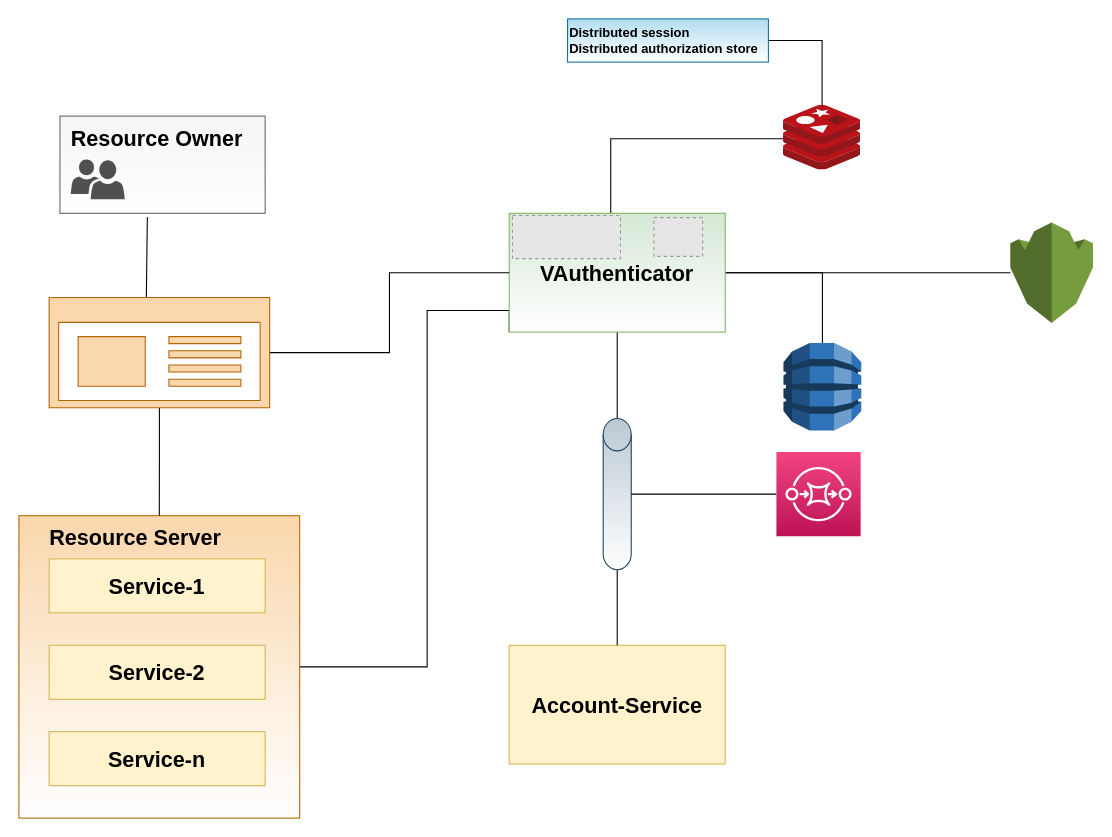
The diagram is 1112 pixels wide and 837 high, and some of its shapes have lost their labels. Grey dashed boxes stand in for pictures. Here are the shapes that lost their labels. From the top down, the centre of each, then its label:
At (1051,272): "AWS KMS".
At (159,352): "Client Application".
At (818,493): "SQS".
